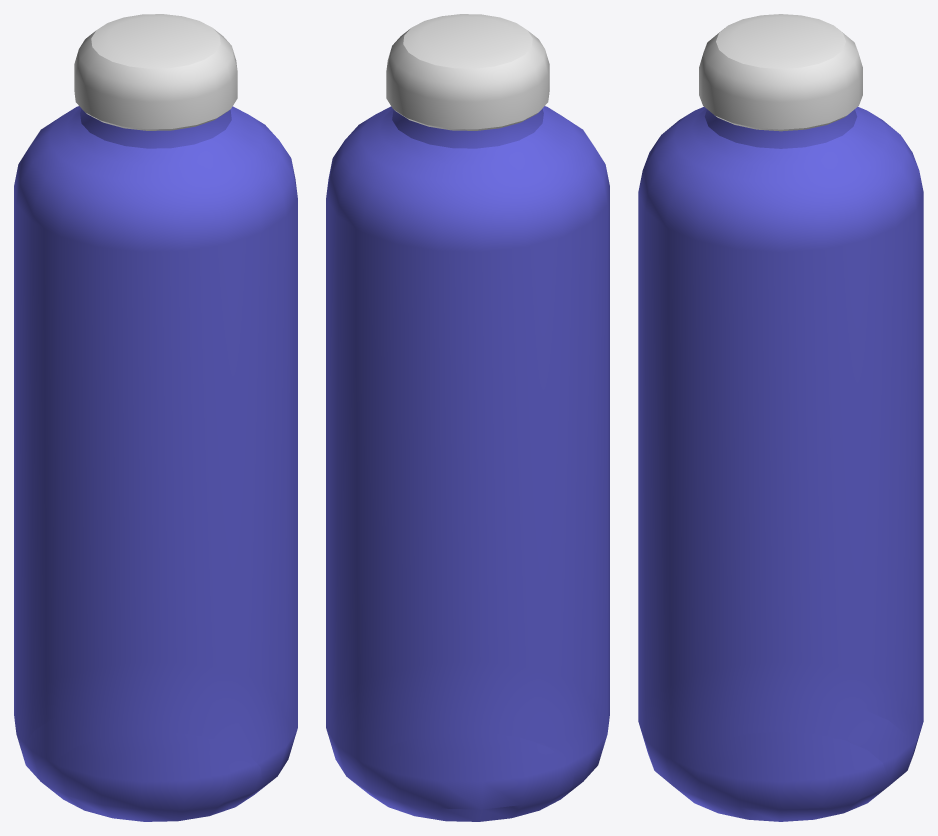
The model's file is PlasticPrefab.fbx.
3 renders of one model, left to right at view 1: azimuth 30°, elevation 25°; view 2: azimuth 150°, elevation 25°; view 3: azimuth 270°, elevation 25°, orthographic.
Parts seen in each view (by area): view 1: pCylinder1, pCylinder2; view 2: pCylinder1, pCylinder2; view 3: pCylinder1, pCylinder2.
Part boxes in pixels (bbox=[...]): pCylinder1: bbox=[14, 106, 297, 821]; pCylinder2: bbox=[74, 14, 237, 130]; pCylinder1: bbox=[326, 106, 609, 821]; pCylinder2: bbox=[386, 14, 549, 130]; pCylinder1: bbox=[638, 107, 923, 821]; pCylinder2: bbox=[699, 14, 862, 131].
Size of the model in its own units: 2 by 5.74 by 2.
